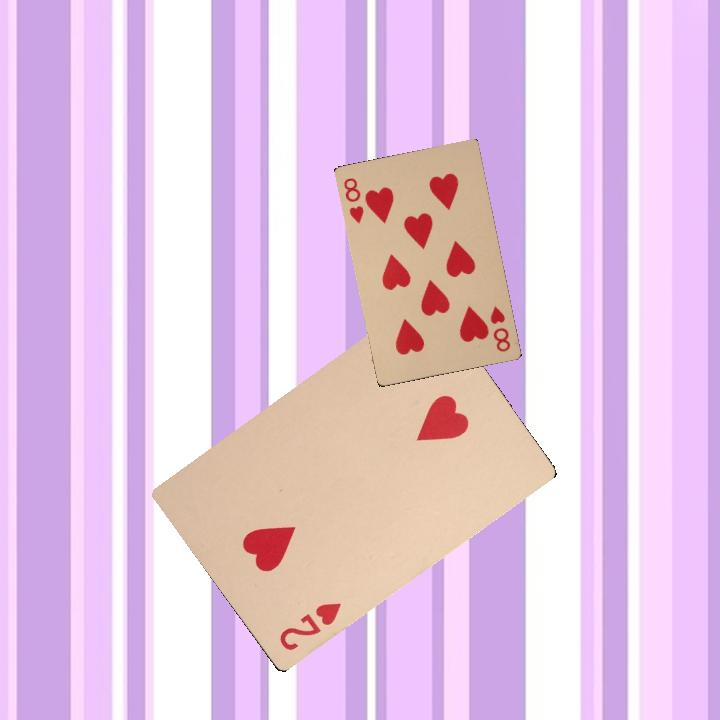2h: (275, 598, 344, 654)
8h: (486, 302, 513, 354), (339, 173, 366, 225)
